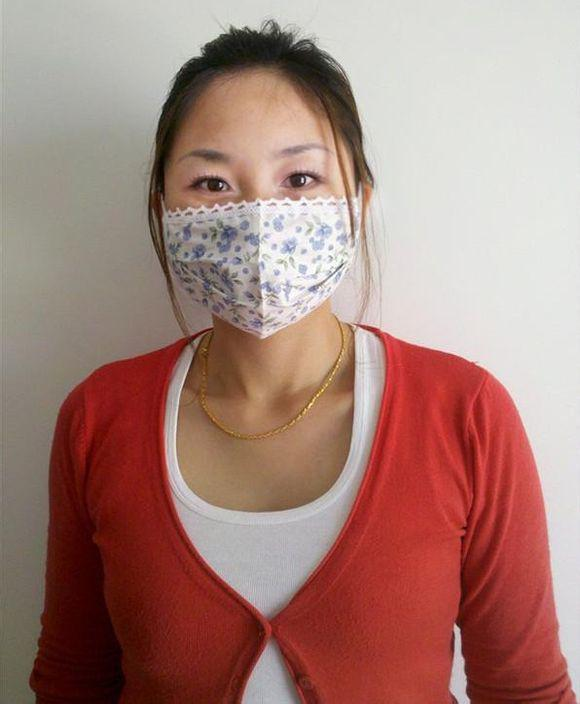OK: (166, 134, 361, 329)
